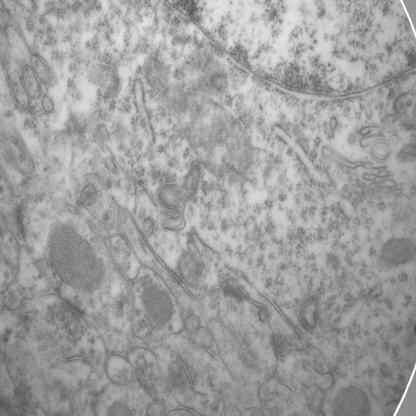mitochondria: (47, 230, 102, 292), (138, 284, 174, 328), (381, 234, 414, 269)
